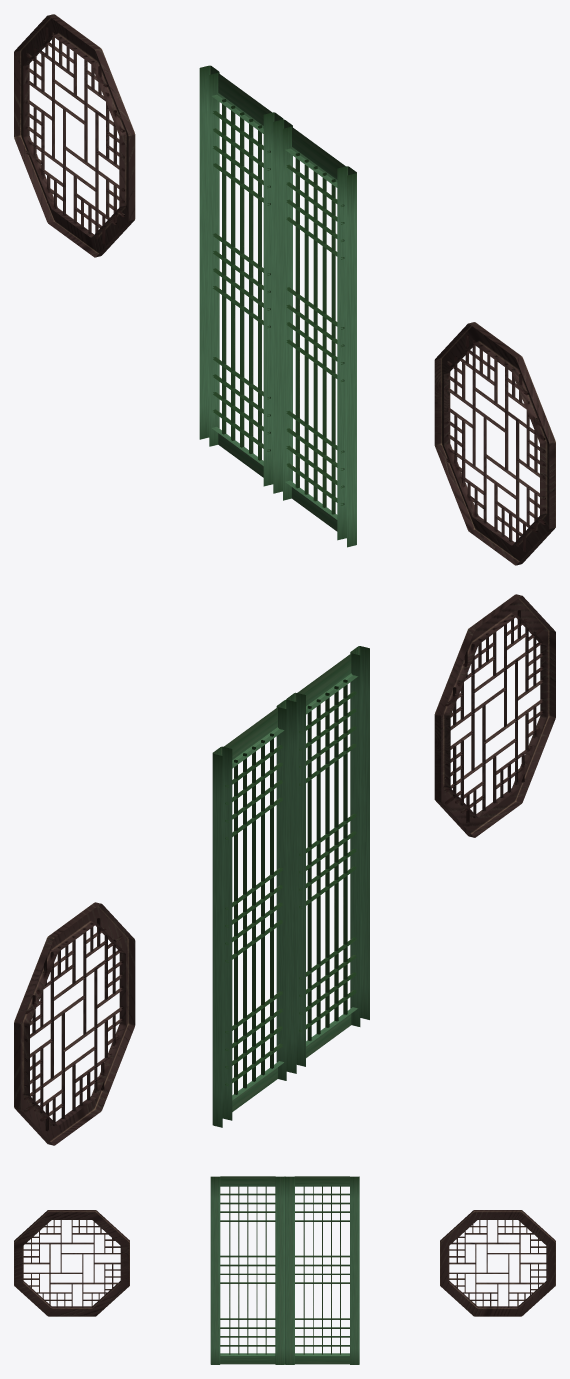
File: TraditionalKoreanHouse_WindowC.fbx
3 views of the same model, one above another, from view 1: azimuth 30°, elevation 25°; view 2: azimuth 150°, elevation 25°; view 3: azimuth 270°, elevation 25° (orthographic). The views are drawn at different scales.
Parts seen in each view (by area): view 1: TraditionalKoreanHouse_WindowC; view 2: TraditionalKoreanHouse_WindowC; view 3: TraditionalKoreanHouse_WindowC.
Part boxes in pixels (x1,y1,x2,y2): TraditionalKoreanHouse_WindowC: (14,14,555,565); TraditionalKoreanHouse_WindowC: (14,594,555,1145); TraditionalKoreanHouse_WindowC: (14,1176,555,1364).
Bounding box in the file's own units: 7.08 × 162 × 423.
